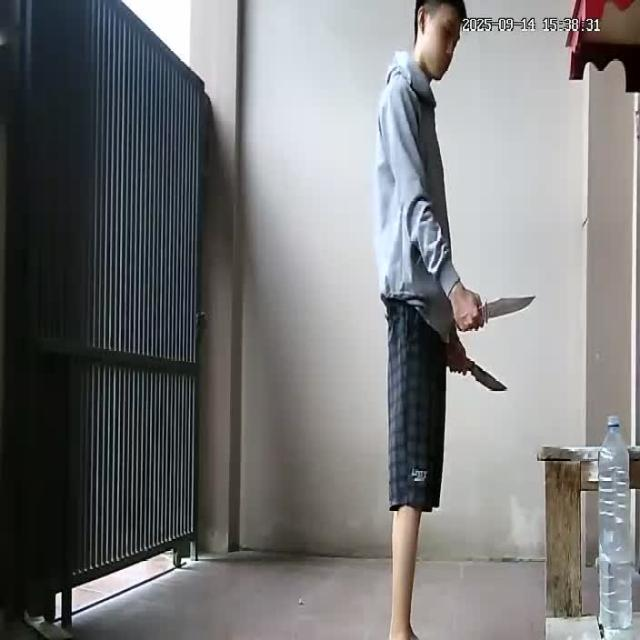senjata_tajam: (481, 289, 537, 325), (466, 357, 511, 393)
